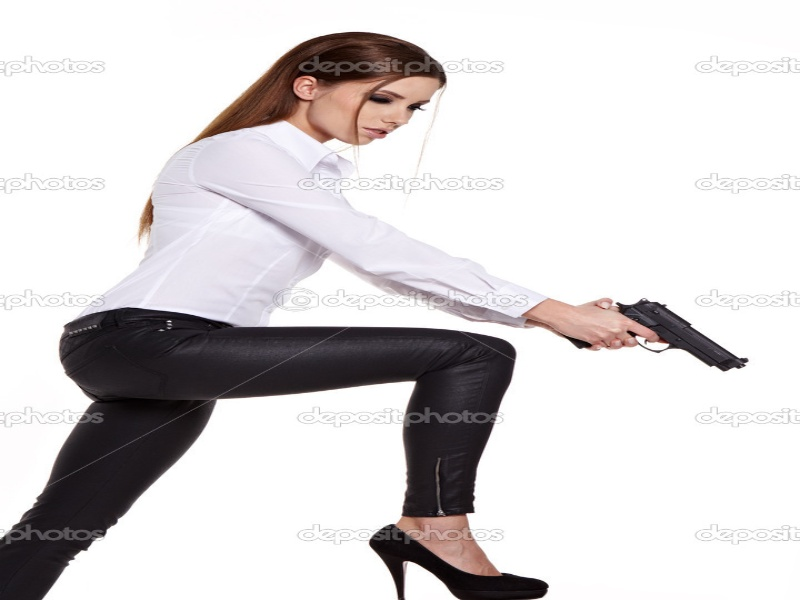gun: (576, 278, 765, 383)
